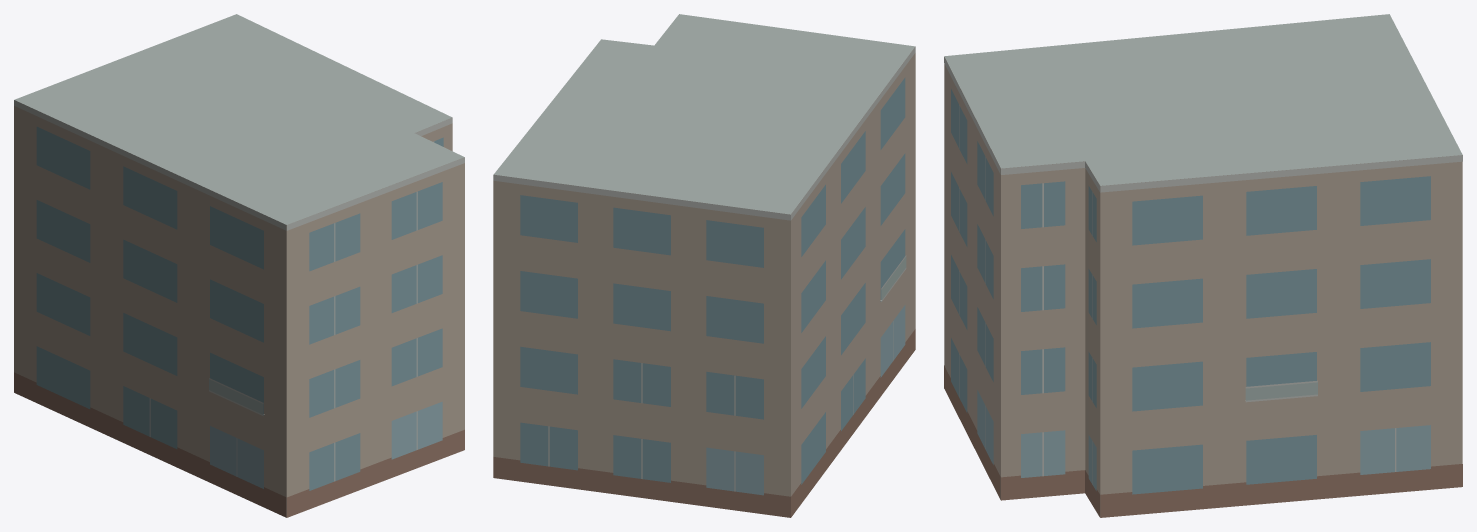
File: survey-upis-33014673.glb
3 renders of one model, left to right at view 1: azimuth 30°, elevation 25°; view 2: azimuth 150°, elevation 25°; view 3: azimuth 270°, elevation 25°, orthographic. The views are drawn at different scales.
Visible parts, largest first — view 1: survey-upis-33014673.tmp; view 2: survey-upis-33014673.tmp; view 3: survey-upis-33014673.tmp.
Boxes of the visible parts, <box> form: survey-upis-33014673.tmp: <box>14,14,464,517</box>; survey-upis-33014673.tmp: <box>493,14,915,517</box>; survey-upis-33014673.tmp: <box>944,14,1462,517</box>.
Size of the model in its own units: 13.56 by 12.2 by 17.29.
